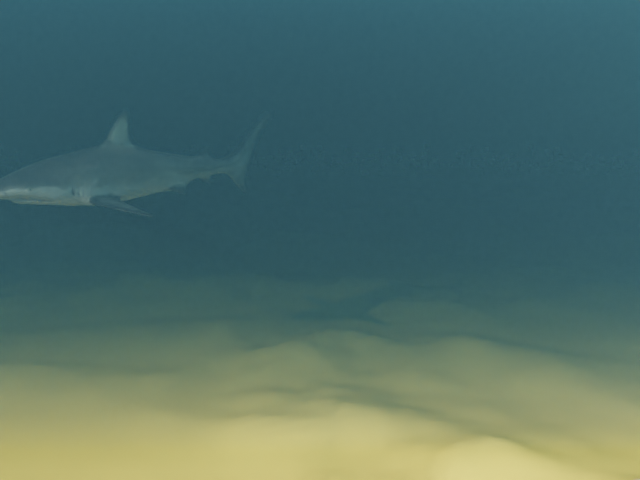Carribean Shark.001: (0, 111, 271, 216)
